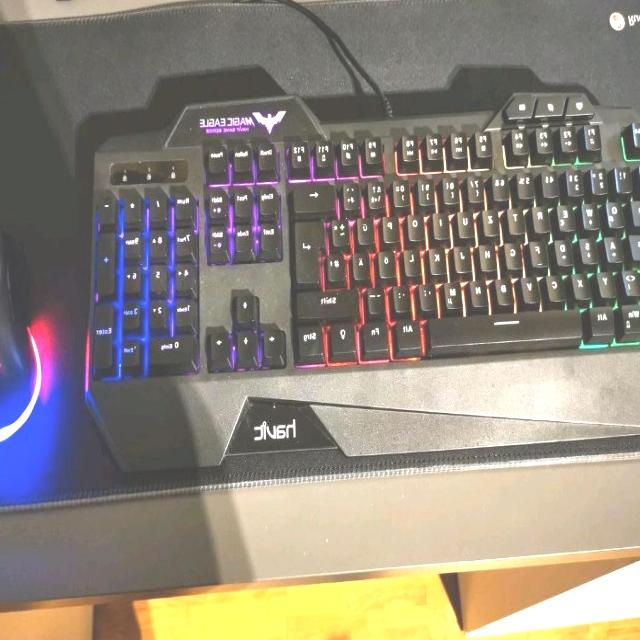0: (394, 175, 412, 205)
1: (617, 163, 635, 191)
2: (593, 163, 611, 193)
3: (568, 165, 586, 195)
4: (543, 165, 561, 195)
5: (518, 165, 536, 197)
6: (493, 171, 511, 199)
7: (468, 174, 486, 202)
8: (445, 176, 461, 204)
9: (419, 176, 435, 204)
a: (607, 233, 626, 261)
accent: (343, 176, 363, 210)
ae: (354, 249, 372, 277)
alt-left: (592, 302, 618, 334)
altgr-right: (397, 318, 425, 350)
b: (497, 274, 516, 304)
c: (548, 271, 567, 299)
caret: (634, 161, 640, 188)
comma: (421, 281, 439, 309)
d: (556, 236, 575, 264)
del: (294, 178, 338, 212)
e: (560, 200, 577, 230)
enter: (297, 215, 327, 282)
f: (531, 238, 550, 264)
g: (506, 240, 524, 268)
h: (481, 241, 499, 269)
hash: (328, 252, 347, 280)
i: (434, 209, 452, 237)
j: (456, 242, 474, 270)
k: (431, 244, 449, 274)
keyboard: (82, 106, 640, 389)
l: (406, 246, 424, 274)
less: (624, 268, 640, 294)
m: (446, 278, 465, 308)
minus: (369, 286, 388, 311)
n: (471, 278, 490, 306)
o: (409, 211, 427, 239)
oe: (380, 247, 398, 275)
p: (385, 212, 402, 240)
plus: (334, 216, 352, 244)
point: (395, 283, 413, 309)
q: (608, 198, 627, 226)
r: (535, 202, 553, 230)
s: (582, 234, 600, 262)
shift-left: (630, 264, 640, 292)
shift-lock: (624, 230, 640, 258)
shift-right: (297, 286, 361, 316)
space: (431, 307, 587, 345)
ss: (370, 175, 388, 208)
strg-left: (630, 298, 640, 331)
strg-right: (298, 322, 326, 358)
t: (509, 205, 527, 231)
tab: (628, 196, 640, 224)
u: (459, 207, 477, 235)
ue: (359, 214, 376, 242)
v: (523, 273, 543, 301)
w: (584, 200, 602, 228)
x: (573, 271, 593, 297)
y: (599, 269, 617, 295)
z: (484, 206, 502, 234)
